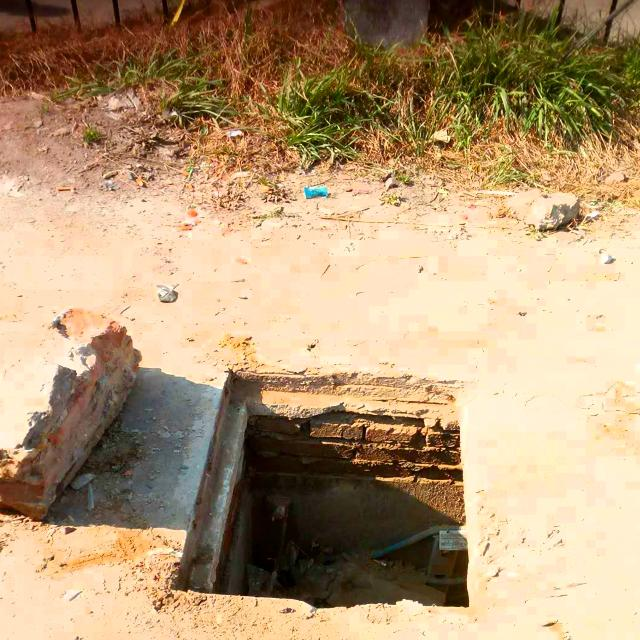lose: (150, 362, 487, 636)
